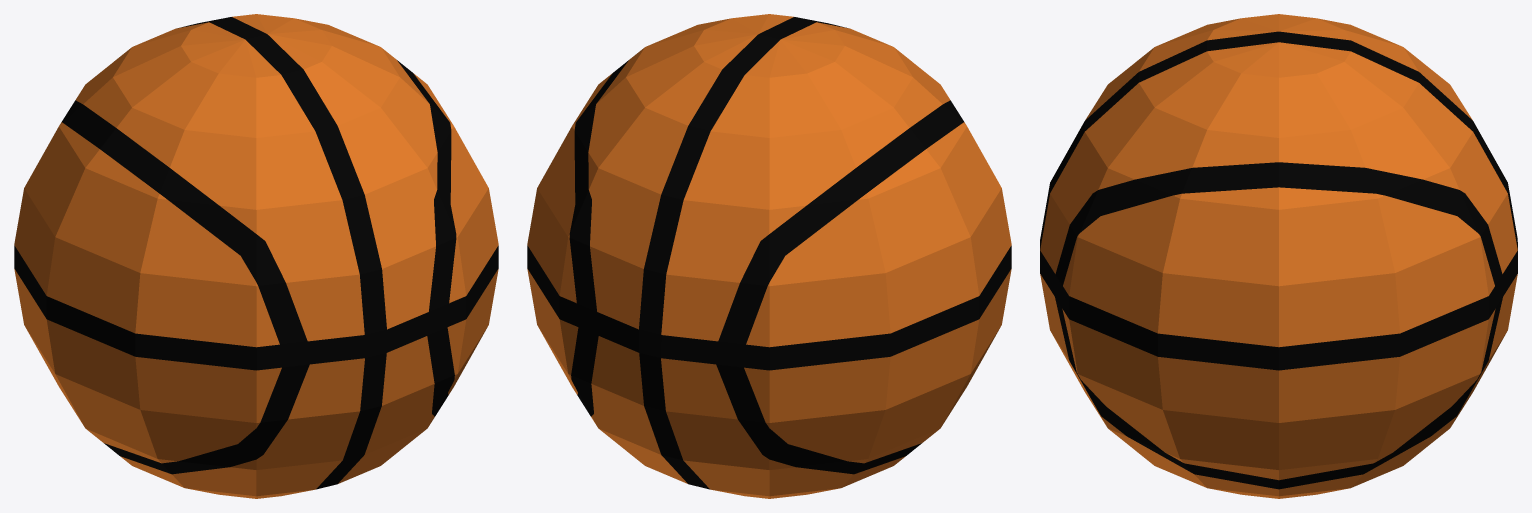
The model's file is SM_Ball_01.glb.
3 renders of one model, left to right at view 1: azimuth 30°, elevation 25°; view 2: azimuth 150°, elevation 25°; view 3: azimuth 270°, elevation 25°, orthographic.
Visible parts, largest first — view 1: SM_Ball_01; view 2: SM_Ball_01; view 3: SM_Ball_01.
Boxes of the visible parts, left/top/right/bottom form: SM_Ball_01: left=14, top=14, right=498, bottom=498; SM_Ball_01: left=527, top=14, right=1011, bottom=498; SM_Ball_01: left=1040, top=14, right=1517, bottom=498.
Size of the model in its own units: 0.3618 by 0.3618 by 0.3567.
Materials: 1 (1 with a texture image).
